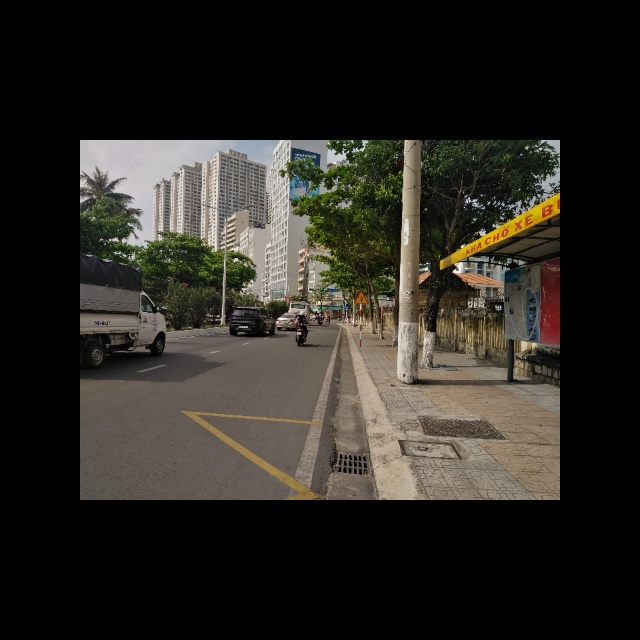Giao nhau có tín hiệu đèn: (354, 289, 370, 304)
